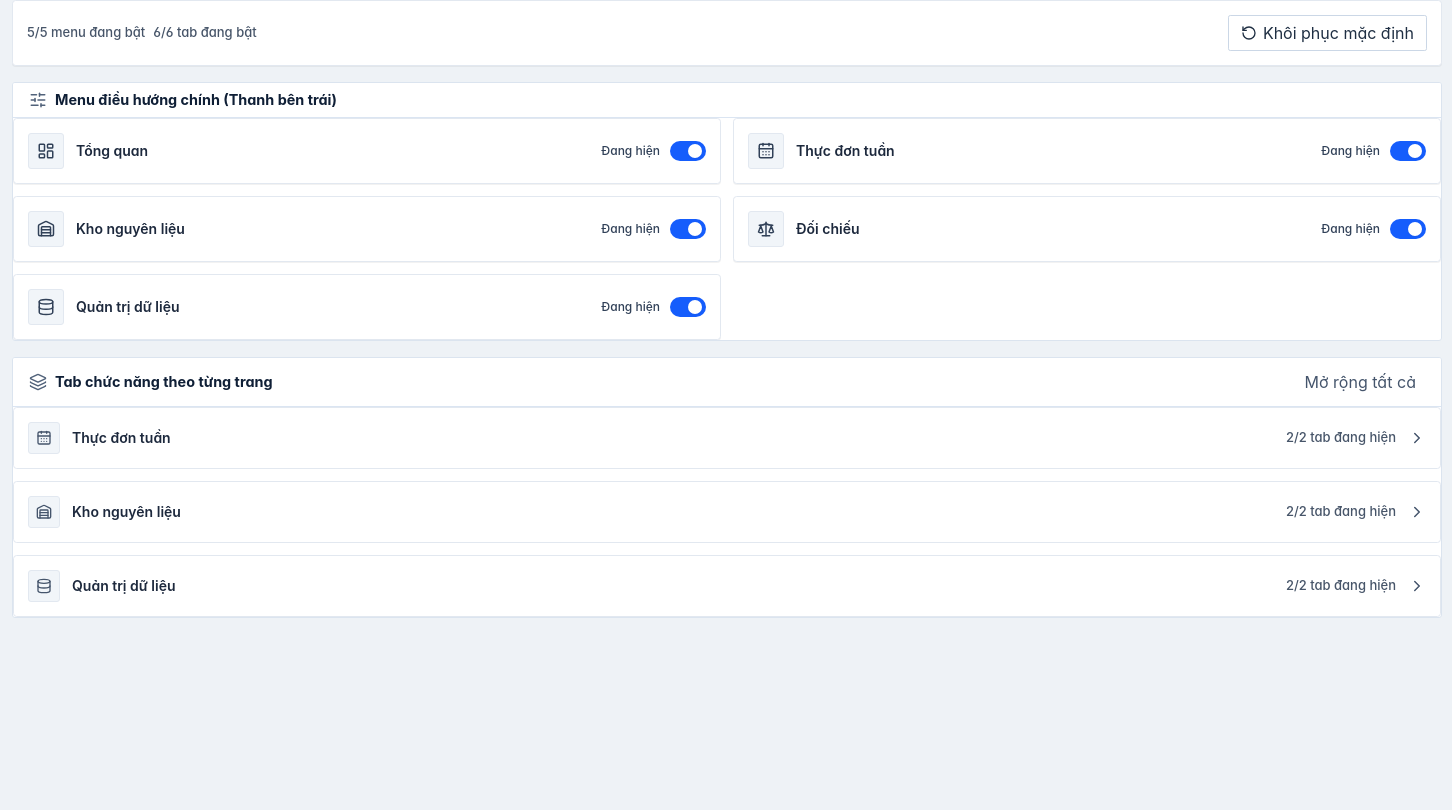
Test: AdvancedDisplaySettings Component › synchronizes navigation and tab groups in MATERIAL_RECONCILIATION mode
Expected: the text "5/5 menu đang bật" is shown, [27, 24, 145, 42]
Expected: the text "6/6 tab đang bật" is shown, [153, 24, 257, 42]
Toggle "Đối chiếu"
What coordinates should you click on to do the following:
click the switch named "Đối chiếu, đang hiện"
I would click on:
 (766, 229)
Its box is [733, 196, 1441, 262].
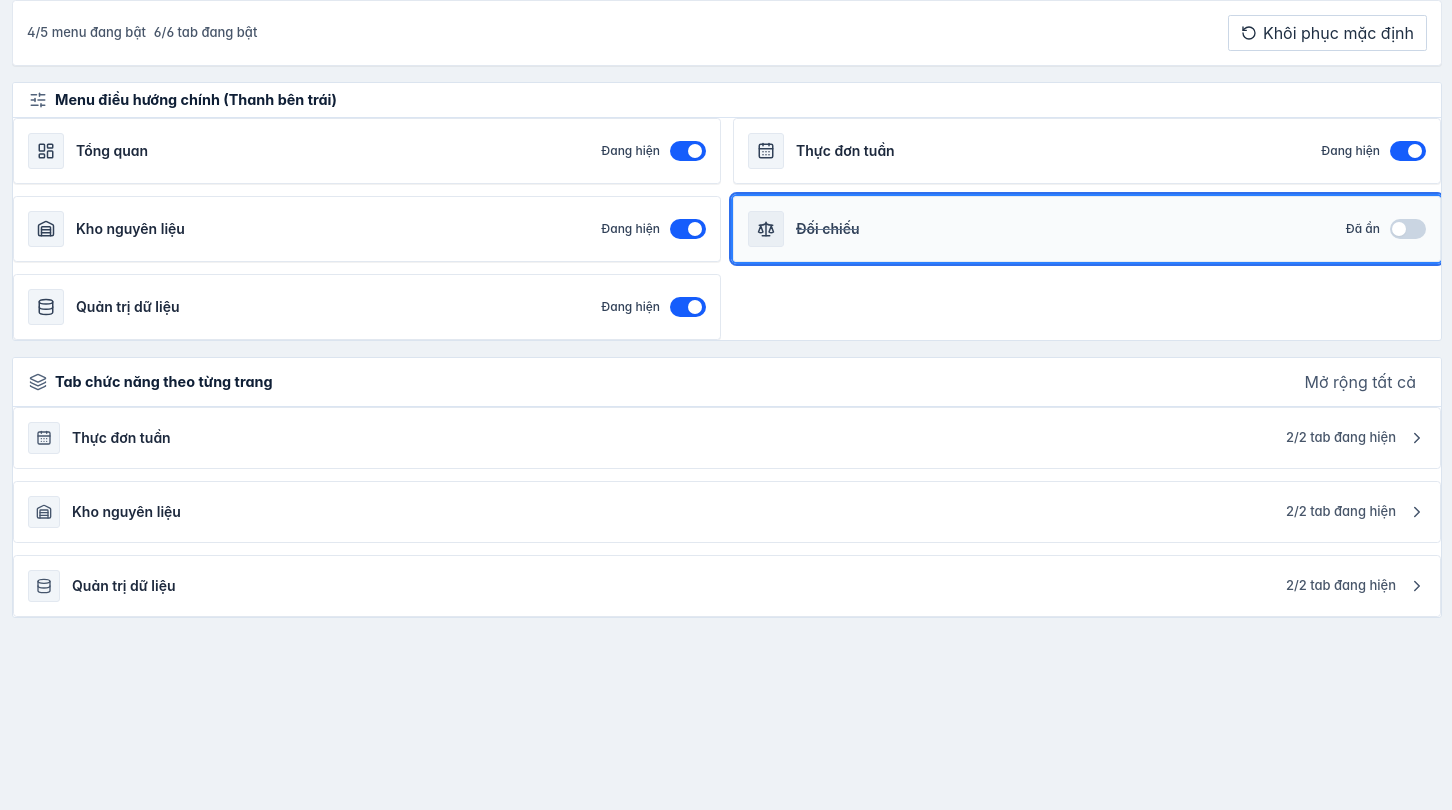
Expected: the button with aria-label "nhóm Thực đơn tuần" is shown, [28, 422, 1426, 454]
Expected: the text "4/5 menu đang bật" is shown, [27, 24, 146, 42]
